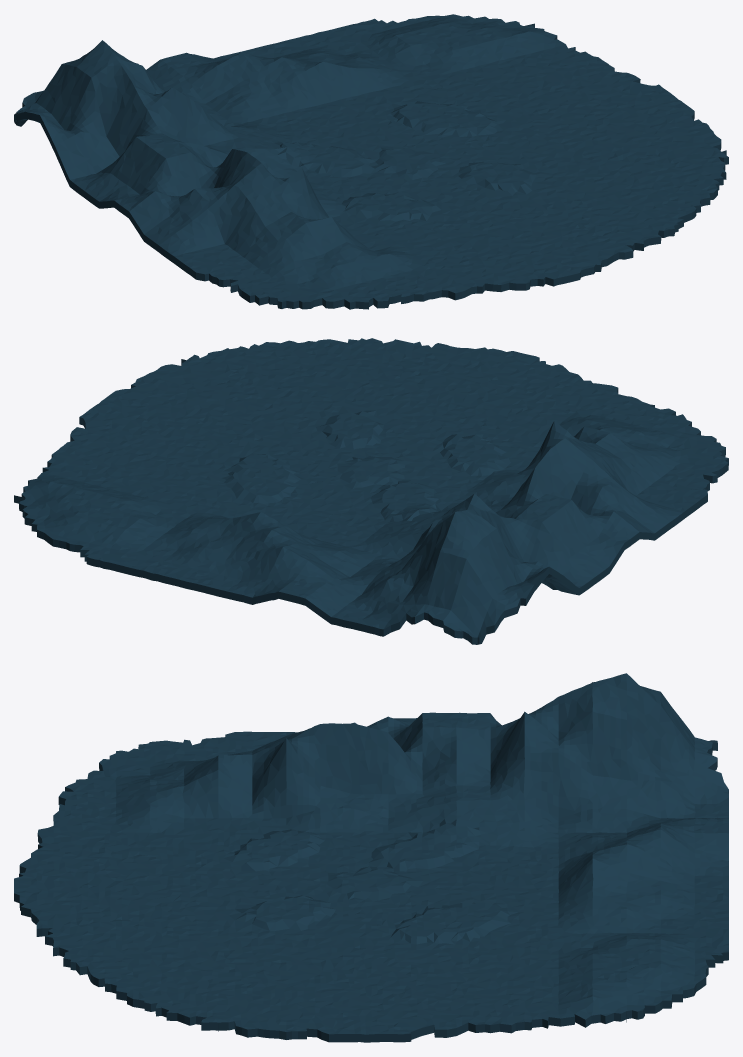
The model's file is NewTerrain.glb.
The picture shows the model from 3 angles, top to bottom: view 1: azimuth 30°, elevation 25°; view 2: azimuth 150°, elevation 25°; view 3: azimuth 270°, elevation 25°; orthographic projection. The views are drawn at different scales.
Parts seen in each view (by area): view 1: Plane; view 2: Plane; view 3: Plane.
Boxes of the visible parts, x1,y1,x2,y2 form: Plane: [14, 14, 728, 309]; Plane: [14, 338, 728, 644]; Plane: [14, 673, 728, 1042].
Bounding box in the file's own units: 200 × 34.45 × 200.
